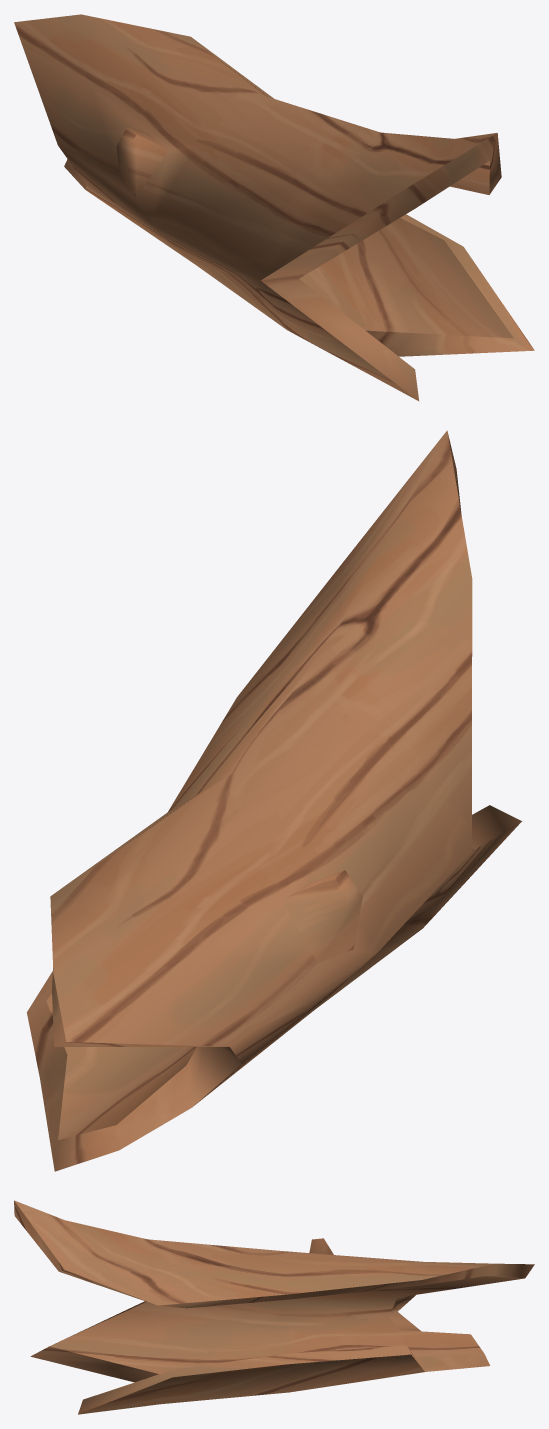
Rendered from Fbx_DeadTree05.fbx.
The picture shows the model from 3 angles, top to bottom: view 1: azimuth 30°, elevation 25°; view 2: azimuth 150°, elevation 25°; view 3: azimuth 270°, elevation 25°; orthographic projection. The views are drawn at different scales.
Parts seen in each view (by area): view 1: DeadTree05; view 2: DeadTree05; view 3: DeadTree05.
Part boxes in pixels (box(x1,y1,x2,y2)): DeadTree05: box(14, 14, 534, 401); DeadTree05: box(27, 430, 521, 1171); DeadTree05: box(14, 1200, 534, 1414).
Bounding box in the file's own units: 134 × 155 × 367.
Materials: 1 (1 with a texture image).
